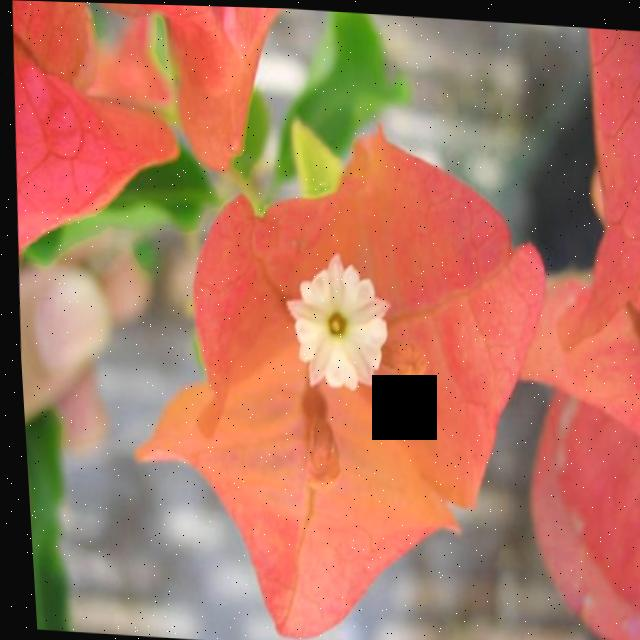bougainvillea: (108, 40, 577, 640)
